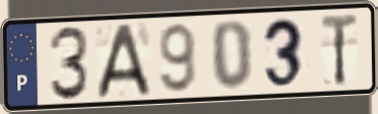0: (208, 18, 255, 93)
3: (261, 14, 311, 92), (47, 23, 91, 103)
9: (156, 21, 199, 95)
A: (94, 21, 154, 101)
T: (318, 11, 360, 89)
